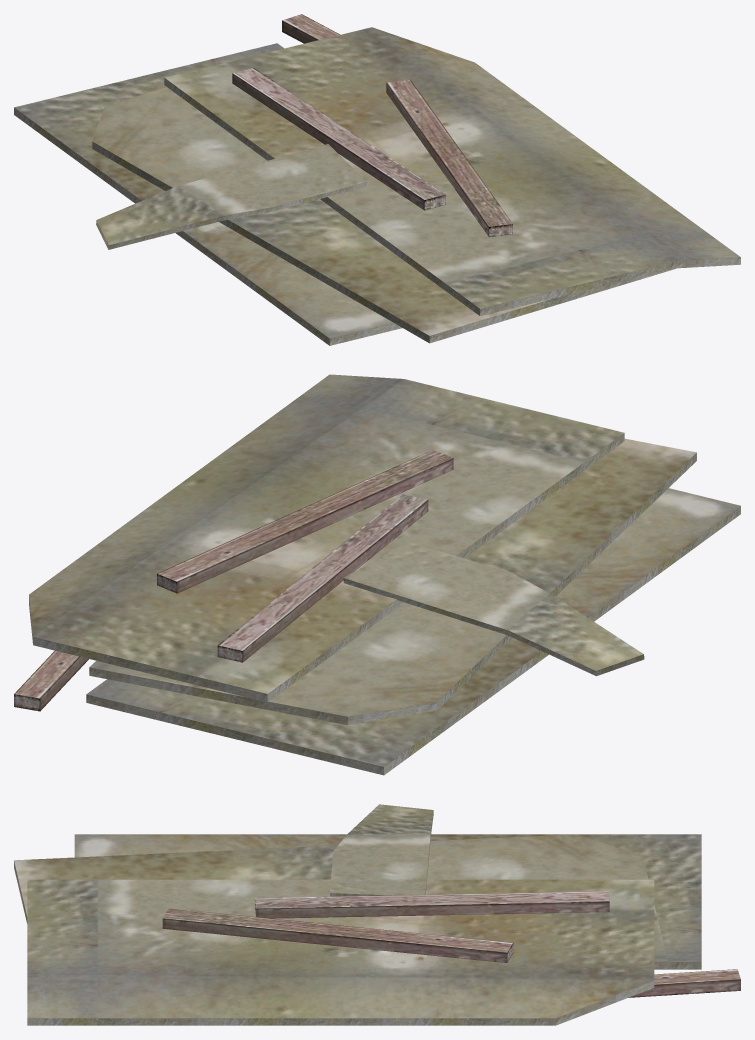
Rendered from wallboardpile2.fbx.
3 views of the same model, one above another, from view 1: azimuth 30°, elevation 25°; view 2: azimuth 150°, elevation 25°; view 3: azimuth 270°, elevation 25° (orthographic). The views are drawn at different scales.
Visible parts, largest first — view 1: mesh_1, mesh_2, mesh_0, mesh_3, mesh_5, mesh_4, mesh_6; view 2: mesh_1, mesh_2, mesh_0, mesh_3, mesh_4, mesh_5, mesh_6; view 3: mesh_1, mesh_2, mesh_0, mesh_3, mesh_5, mesh_4, mesh_6.
Part boxes in pixels (bbox=[...]): mesh_1: bbox=[164, 27, 740, 316]; mesh_2: bbox=[92, 87, 676, 343]; mesh_0: bbox=[14, 43, 402, 345]; mesh_3: bbox=[96, 144, 366, 249]; mesh_5: bbox=[232, 67, 445, 210]; mesh_4: bbox=[386, 79, 512, 237]; mesh_6: bbox=[282, 14, 340, 43]; mesh_1: bbox=[29, 374, 624, 702]; mesh_2: bbox=[89, 438, 696, 724]; mesh_0: bbox=[86, 488, 740, 775]; mesh_3: bbox=[343, 541, 644, 676]; mesh_4: bbox=[157, 449, 453, 593]; mesh_5: bbox=[217, 494, 428, 662]; mesh_6: bbox=[14, 650, 88, 711]; mesh_1: bbox=[27, 879, 654, 1025]; mesh_2: bbox=[14, 834, 667, 969]; mesh_0: bbox=[74, 834, 701, 969]; mesh_3: bbox=[330, 804, 433, 896]; mesh_5: bbox=[255, 891, 609, 918]; mesh_4: bbox=[162, 908, 513, 962]; mesh_6: bbox=[628, 969, 740, 997].
Size of the model in its own units: 261 by 18.59 by 363.
2 materials, 2 textured.
